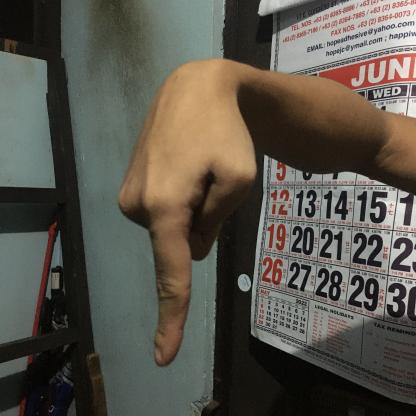here: (112, 55, 262, 372)
